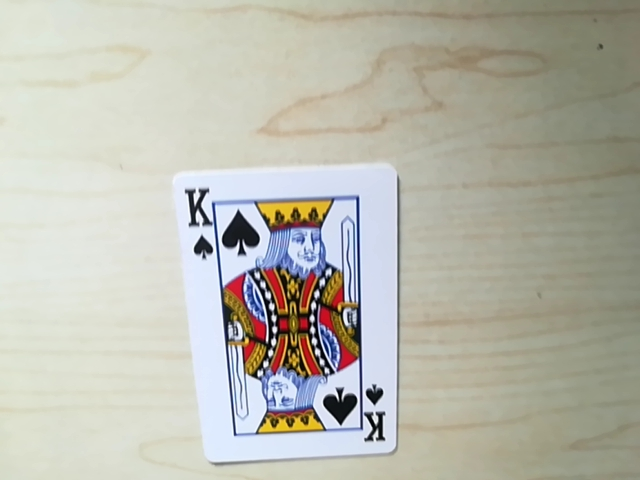ht k: (226, 388, 381, 452), (354, 390, 387, 449)
